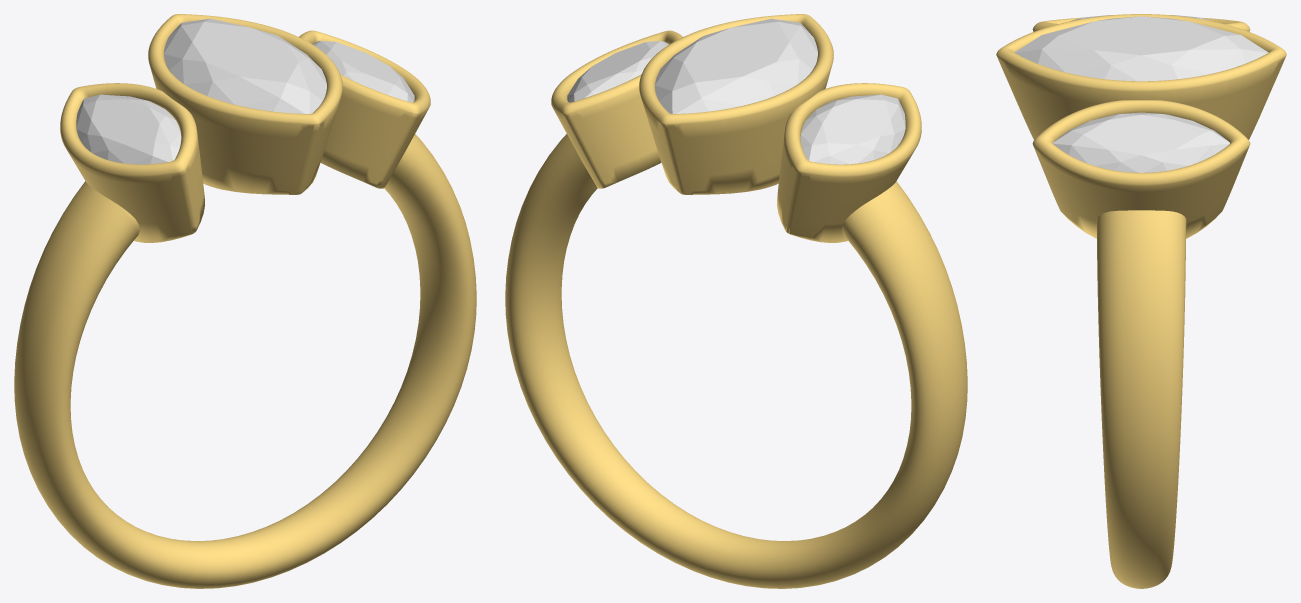
Rendered from diamond-marquise-yellowgold-bezelset-taperedband-3stone.glb.
3 views of the same model, side by side, from view 1: azimuth 30°, elevation 25°; view 2: azimuth 150°, elevation 25°; view 3: azimuth 270°, elevation 25° (orthographic).
Visible parts, largest first — view 1: metal.002, stone.002, side.005, side.004; view 2: metal.002, stone.002, side.005, side.004; view 3: metal.002, stone.002, side.004.
Boxes of the visible parts, x1,y1,x2,y2 form: metal.002: (14, 14, 476, 588); stone.002: (164, 18, 326, 113); side.005: (76, 94, 181, 164); side.004: (313, 41, 414, 102); metal.002: (505, 14, 967, 588); stone.002: (655, 18, 817, 113); side.005: (800, 94, 905, 164); side.004: (567, 41, 668, 102); metal.002: (996, 14, 1286, 588); stone.002: (1014, 16, 1268, 81); side.004: (1053, 112, 1229, 172).
Bounding box in the file's own units: 20.09 × 22.73 × 11.31.
